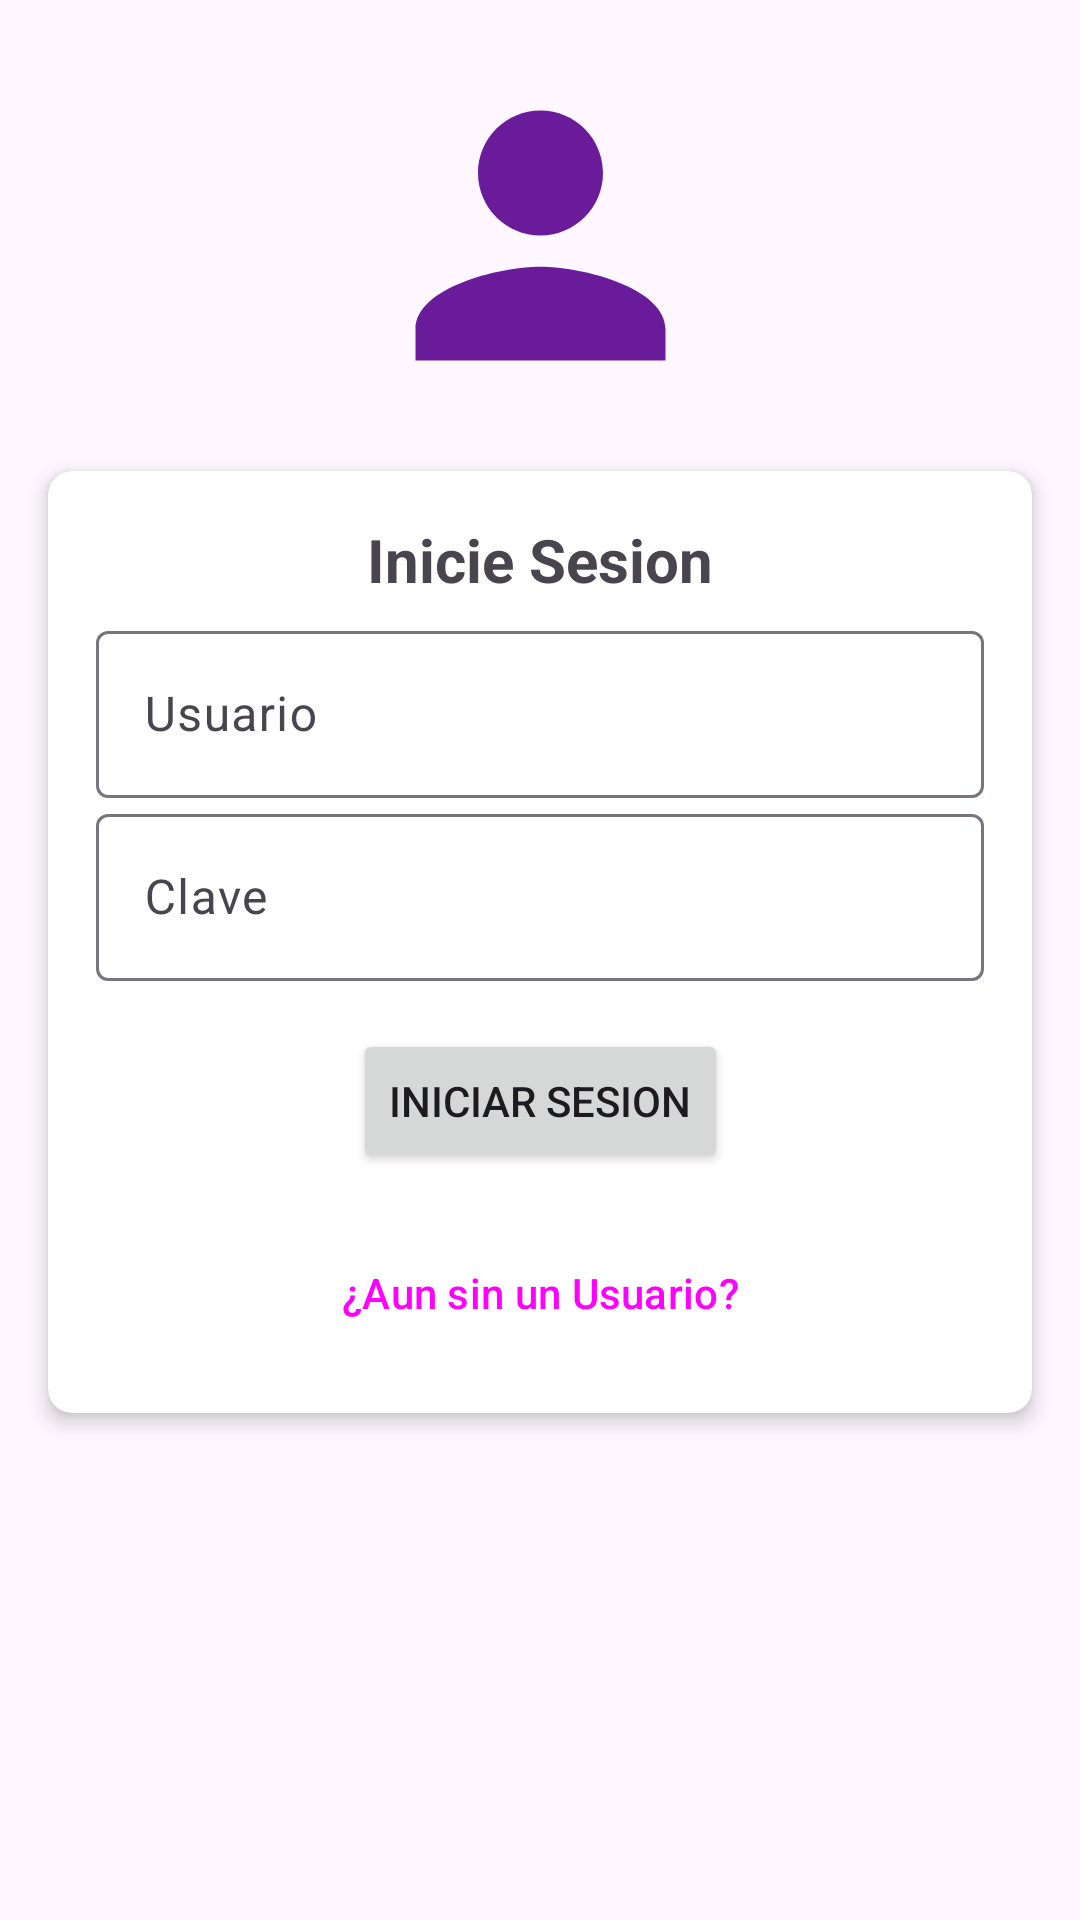

Named icons in this screenshot (1080px x 1920px) and their bounding boxes, {"left": x1, "top": y1, "right": x2, "bottom": y2}:
userico: {"left": 415, "top": 110, "right": 666, "bottom": 361}
